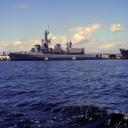Fragata: (9, 22, 106, 62)
